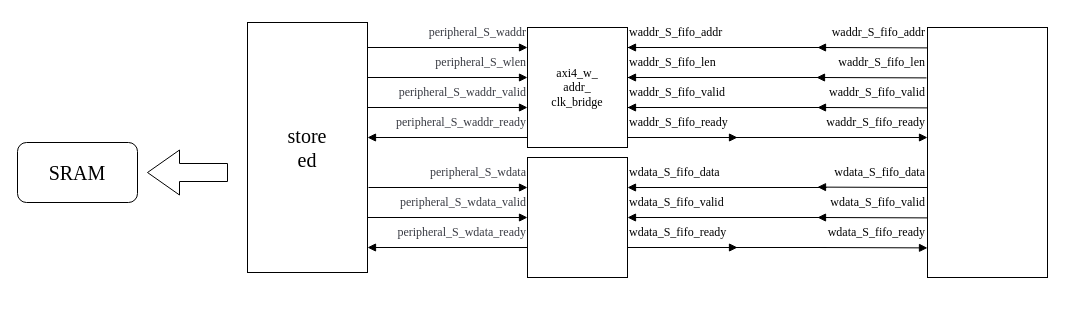
The diagram is 1065 pixels wide and 334 high, and some of its shapes have lost their labels. The box of each missing label's shape, as (x1, y1, x2, y2) in pixels:
axi4_full_ slave_write_ interface: (926, 26, 1048, 278)
axi4_r_ data_ clk_bridge: (526, 156, 628, 278)
